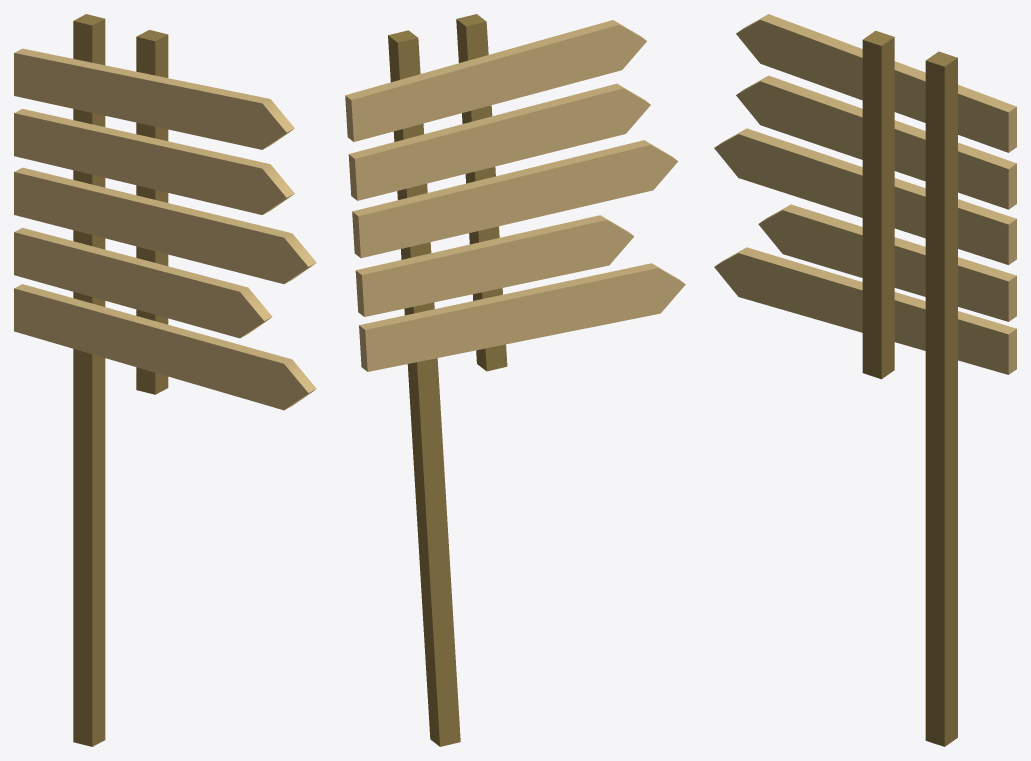
Rendered from weapon4fence.fbx.
The picture shows the model from 3 angles, left to right: view 1: azimuth 90°, elevation 25°; view 2: azimuth 150°, elevation 25°; view 3: azimuth 270°, elevation 25°; orthographic projection.
Parts seen in each view (by area): view 1: set_summer:set_summer:pCube193; view 2: set_summer:set_summer:pCube193; view 3: set_summer:set_summer:pCube193.
Boxes of the visible parts, x1,y1,x2,y2 form: set_summer:set_summer:pCube193: (14,14,316,746); set_summer:set_summer:pCube193: (345,14,685,746); set_summer:set_summer:pCube193: (714,14,1016,746).
Bounding box in the file's own units: 0.8473 × 2.84 × 1.11.
